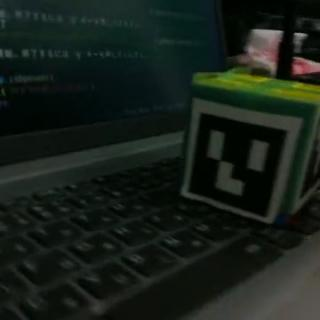armor: (184, 97, 298, 223)
robot: (180, 68, 320, 225)
